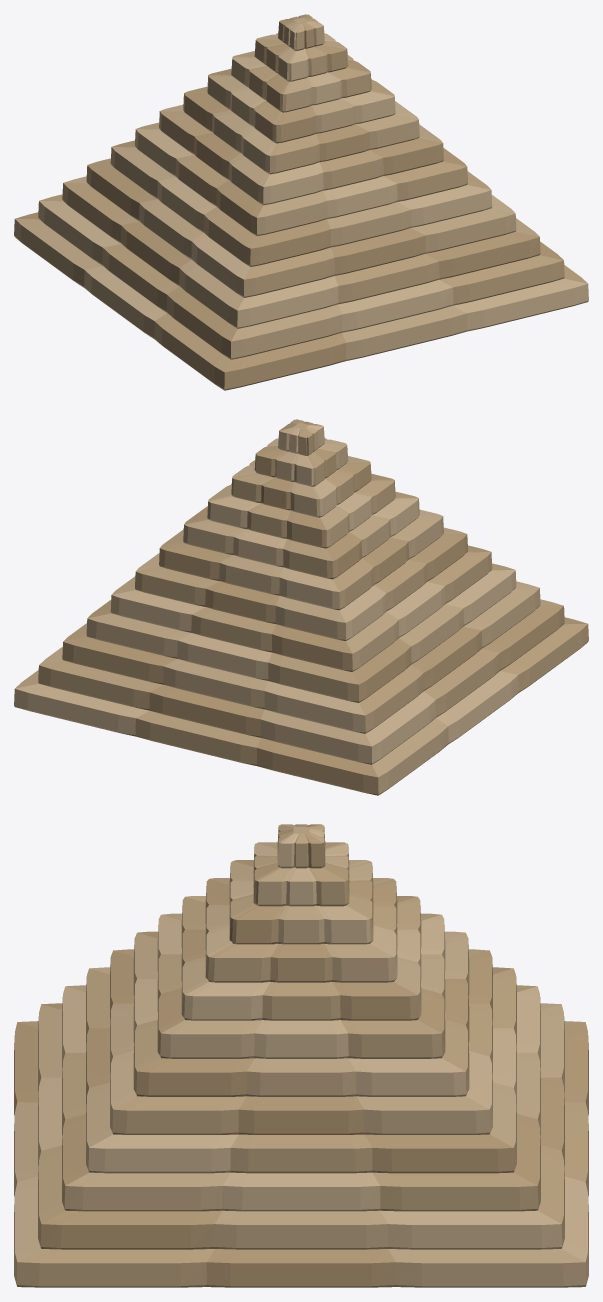
File: NEW_RECOVERY_102_LOD1.glb
3 views of the same model, one above another, from view 1: azimuth 30°, elevation 25°; view 2: azimuth 150°, elevation 25°; view 3: azimuth 270°, elevation 25° (orthographic). The views are drawn at different scales.
Parts seen in each view (by area): view 1: Pyramid solid stepped limestone; view 2: Pyramid solid stepped limestone; view 3: Pyramid solid stepped limestone.
Boxes of the visible parts, x1,y1,x2,y2 form: Pyramid solid stepped limestone: (14, 14, 588, 390); Pyramid solid stepped limestone: (14, 419, 588, 795); Pyramid solid stepped limestone: (14, 824, 588, 1287).
Bounding box in the file's own units: 10 × 6.46 × 10.
